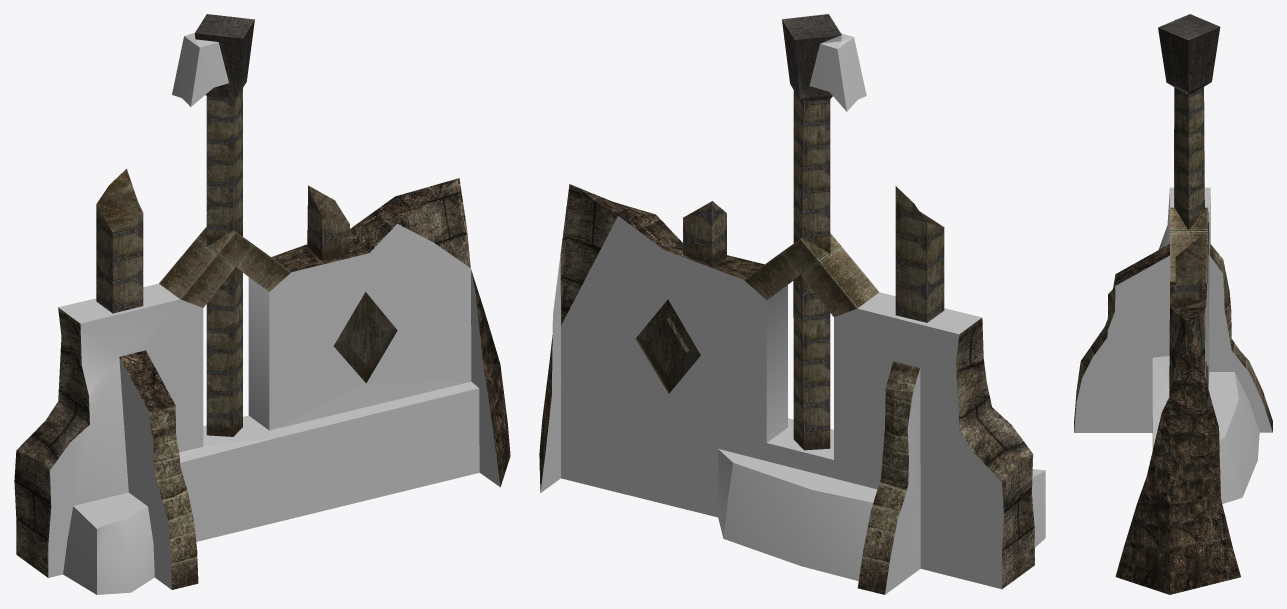
The picture shows the model from 3 angles, left to right: view 1: azimuth 30°, elevation 25°; view 2: azimuth 150°, elevation 25°; view 3: azimuth 270°, elevation 25°; orthographic projection. The views are drawn at different scales.
Visible parts, largest first — view 1: Elements_Labirint_04; view 2: Elements_Labirint_04; view 3: Elements_Labirint_04.
Boxes of the visible parts, x1,y1,x2,y2 form: Elements_Labirint_04: (14, 14, 510, 594); Elements_Labirint_04: (539, 14, 1045, 594); Elements_Labirint_04: (1074, 14, 1272, 594).
Size of the model in its own units: 1334 by 532 by 1317.
